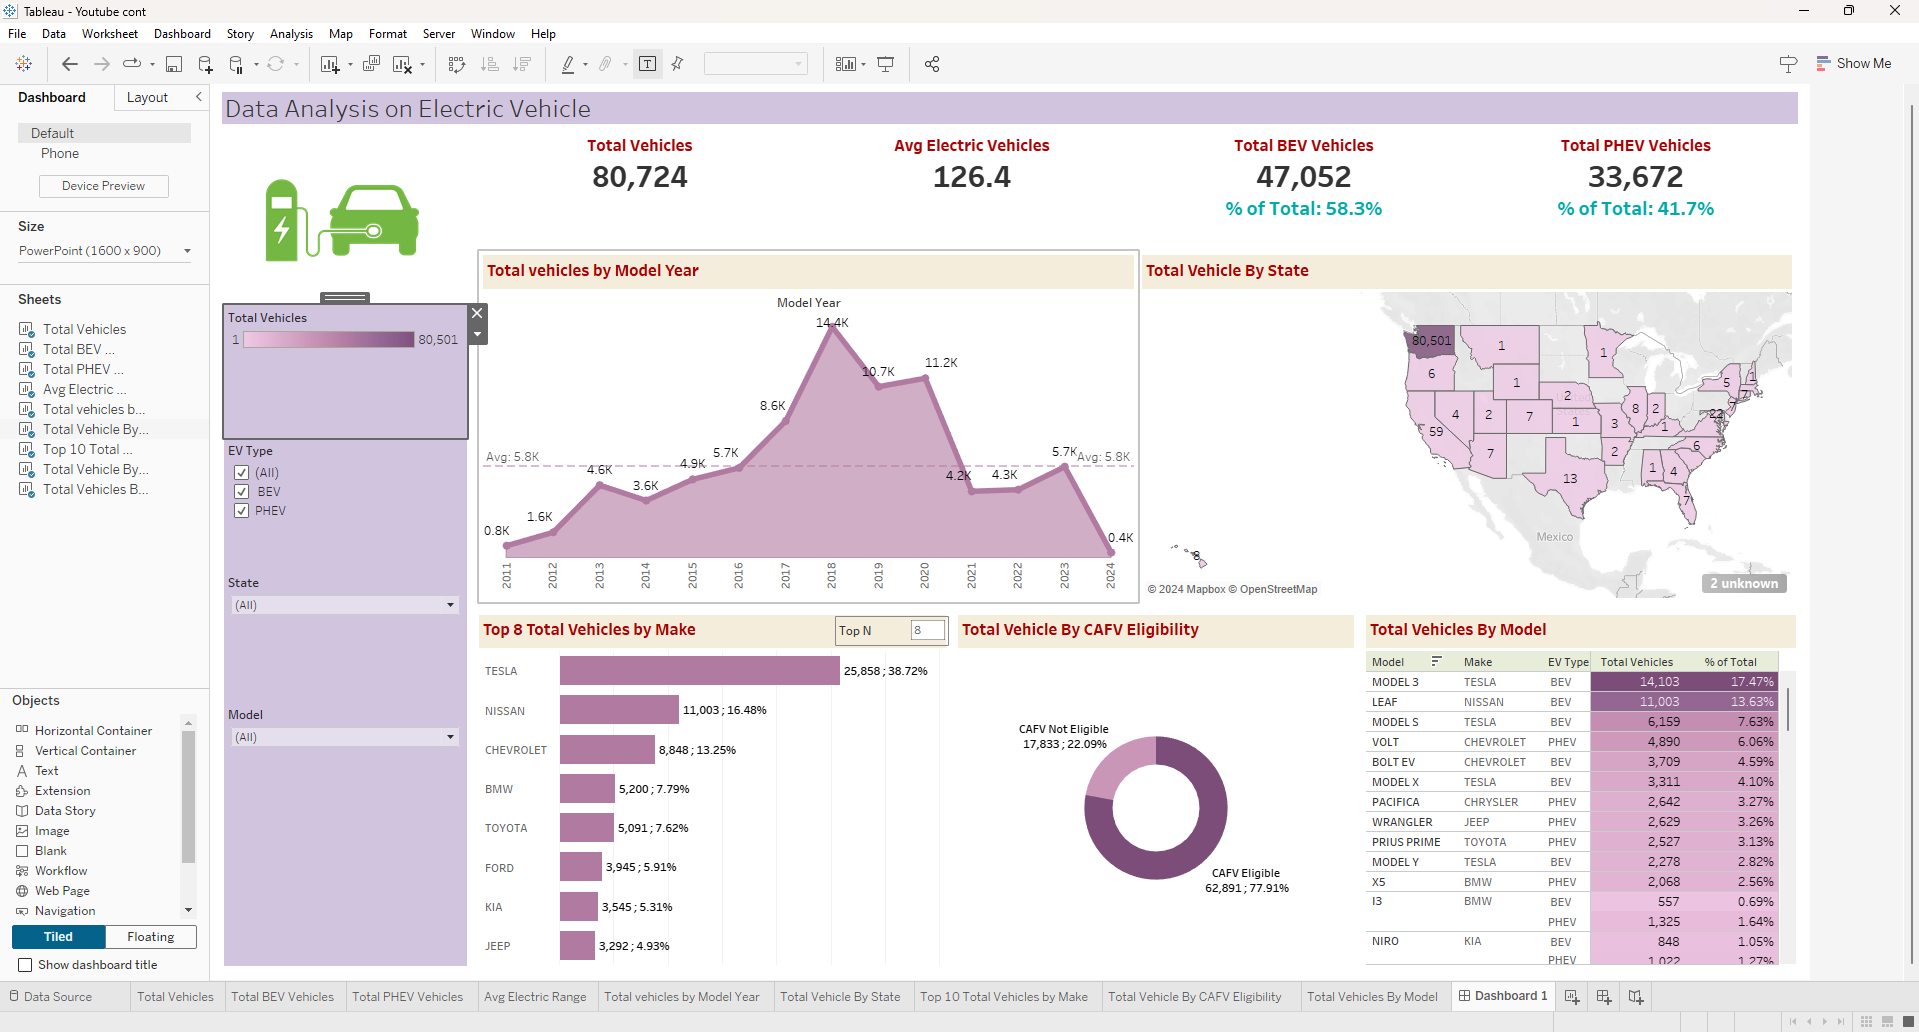

This screenshot's page, from the dashboard's own definition file:
{"tool":"tableau","page":{"name":"Dashboard 1","canvas":[1600,900],"ordinal":0},"visuals":[{"type":"title","box":[8,8,1584,40]},{"type":"image","param":"C:/Users/Lenovo/Desktop/pngimg.com - electric_car_PNG8.png","box":[8,48,255,177]},{"type":"worksheet","title":"Total Vehicles","mark":"Automatic","box":[263,48,333,117]},{"type":"worksheet","title":"Avg Electric Range","mark":"Automatic","box":[596,48,332,117]},{"type":"worksheet","title":"Total BEV Vehicles","mark":"Automatic","box":[928,48,332,117]},{"type":"worksheet","title":"Total PHEV Vehicles ","mark":"Automatic","box":[1260,48,332,117]},{"type":"worksheet","title":"Total vehicles by Model Year","mark":"Area","rows":["Calculation_1940488534628343808","Calculation_1940488534628343808"],"cols":["Model Year"],"box":[269,171,659,351.5]},{"type":"worksheet","title":"Total Vehicle By State","mark":"Multipolygon","box":[928,171,658,351.5]},{"type":"legend","title":"Total Vehicle By State","param":"[federated.0qkkas41b6vfg41b12wbt1go3uix].[usr:Calculation_1940488534628343808:qk","box":[14,225,243,95]},{"type":"filter","title":"Total vehicles by Model Year","param":"[federated.0qkkas41b6vfg41b12wbt1go3uix].[none:Clean Alternative Fuel Vehicle (C","box":[14,320,243,95]},{"type":"filter","title":"Total vehicles by Model Year","param":"[federated.0qkkas41b6vfg41b12wbt1go3uix].[none:Electric Vehicle Type:nk]","box":[14,415,243,95]},{"type":"filter","title":"Total Vehicle By State","param":"[federated.0qkkas41b6vfg41b12wbt1go3uix].[none:State:nk]","box":[14,510,243,94]},{"type":"worksheet","title":"Top 10 Total Vehicles by Make","mark":"Automatic","rows":["Make"],"cols":["Calculation_1940488534628343808"],"box":[263,528.5,479,363.5]},{"type":"worksheet","title":"Total Vehicle By CAFV Eligibility ","mark":"Pie","rows":["Calculation_1253689593084948481","Calculation_1253689593085227013"],"box":[742,528.5,408,363.5]},{"type":"worksheet","title":"Total Vehicles By Model","mark":"Square","rows":["Model","Make","Electric Vehicle Type"],"box":[1150,528.5,442,363.5]},{"type":"parameter","param":"[Parameters].[Parameter 1]","box":[625,536,114,30]},{"type":"filter","title":"Total Vehicle By State","param":"[federated.0qkkas41b6vfg41b12wbt1go3uix].[none:Model:nk]","box":[14,604,243,94]},{"type":"blank","box":[14,698,243,94]},{"type":"blank","box":[14,792,243,94]}]}

Visuals, with their boxes on the page's 1600x900 design canvas (x1, y1, x2, y2). These are canvas units, not pixel positions in the 1919x1032 screenshot, which may show the page scaled, cropped or inside an application window:
title: l=8, t=8, r=1592, b=48
image: l=8, t=48, r=263, b=225
"Total Vehicles" worksheet: l=263, t=48, r=596, b=165
"Avg Electric Range" worksheet: l=596, t=48, r=928, b=165
"Total BEV Vehicles" worksheet: l=928, t=48, r=1260, b=165
"Total PHEV Vehicles " worksheet: l=1260, t=48, r=1592, b=165
"Total vehicles by Model Year" worksheet (Area marks): l=269, t=171, r=928, b=522
"Total Vehicle By State" worksheet (Multipolygon marks): l=928, t=171, r=1586, b=522
"Total Vehicle By State" legend: l=14, t=225, r=257, b=320
"Total vehicles by Model Year" filter: l=14, t=320, r=257, b=415
"Total vehicles by Model Year" filter: l=14, t=415, r=257, b=510
"Total Vehicle By State" filter: l=14, t=510, r=257, b=604
"Top 10 Total Vehicles by Make" worksheet: l=263, t=528, r=742, b=892
"Total Vehicle By CAFV Eligibility " worksheet (Pie marks): l=742, t=528, r=1150, b=892
"Total Vehicles By Model" worksheet (Square marks): l=1150, t=528, r=1592, b=892
parameter: l=625, t=536, r=739, b=566
"Total Vehicle By State" filter: l=14, t=604, r=257, b=698
blank: l=14, t=698, r=257, b=792
blank: l=14, t=792, r=257, b=886
